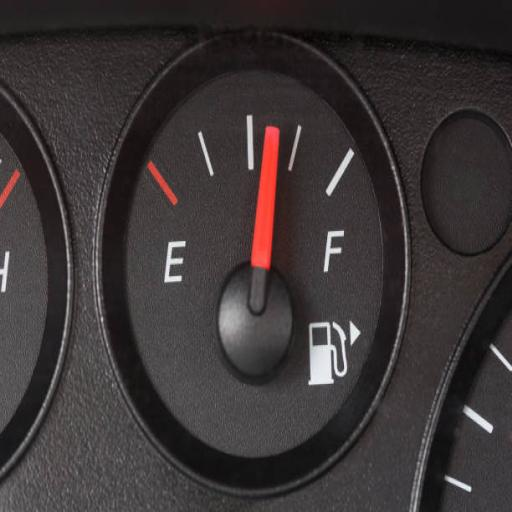empty: (161, 232, 192, 293)
fuel_icon: (307, 317, 349, 391)
full: (320, 224, 348, 277)
guage_area: (74, 16, 432, 506)
needle_center: (207, 246, 302, 388)
needle_tip: (258, 116, 285, 174)
